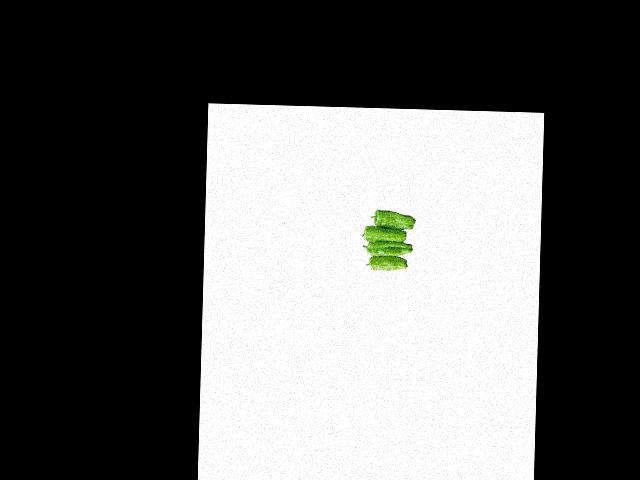bell_pepper: (368, 209, 419, 230)
